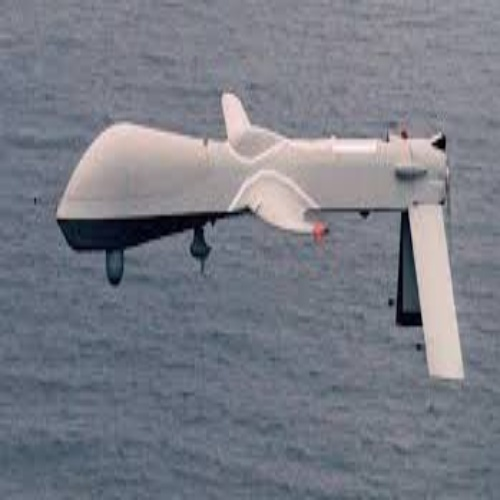uav658: (53, 91, 467, 388)
